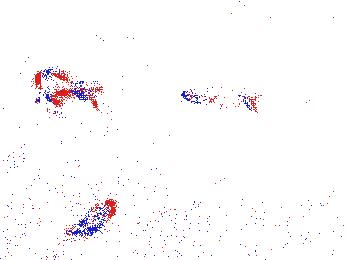redtail glassfish: (180, 82, 263, 117), (36, 62, 99, 106), (24, 218, 81, 249)
